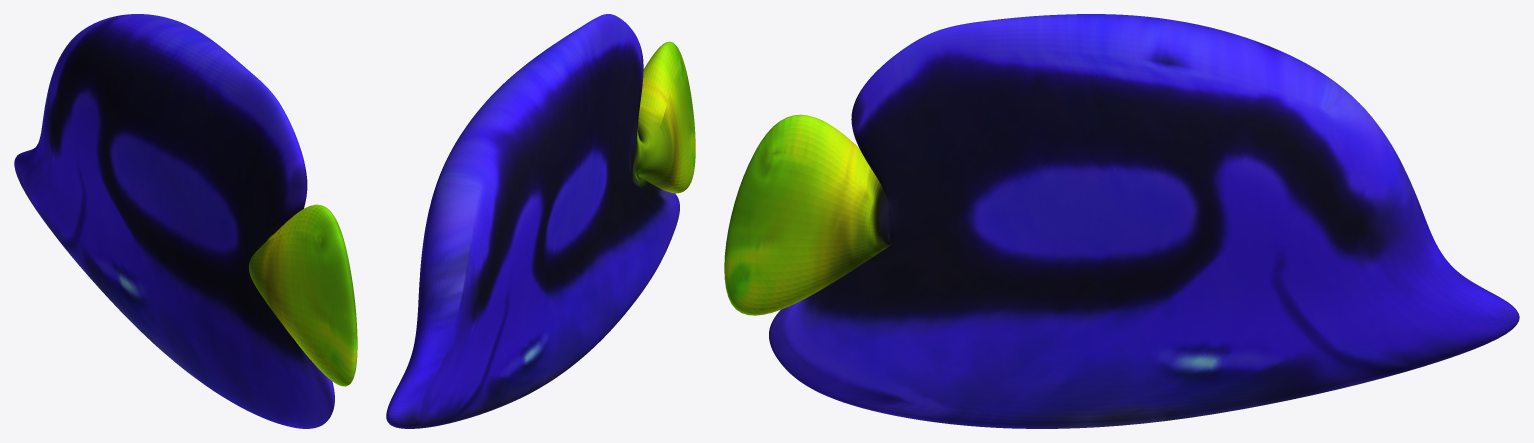
The model's file is dorymid.obj.
3 views of the same model, side by side, from view 1: azimuth 30°, elevation 25°; view 2: azimuth 150°, elevation 25°; view 3: azimuth 270°, elevation 25° (orthographic). The views are drawn at different scales.
Parts seen in each view (by area): view 1: Cube; view 2: Cube; view 3: Cube.
Part boxes in pixels (left/top/right/bottom): Cube: left=14, top=14, right=357, bottom=428; Cube: left=386, top=14, right=695, bottom=428; Cube: left=724, top=14, right=1519, bottom=428.
Size of the model in its own units: 0.2703 by 1.03 by 1.8.
